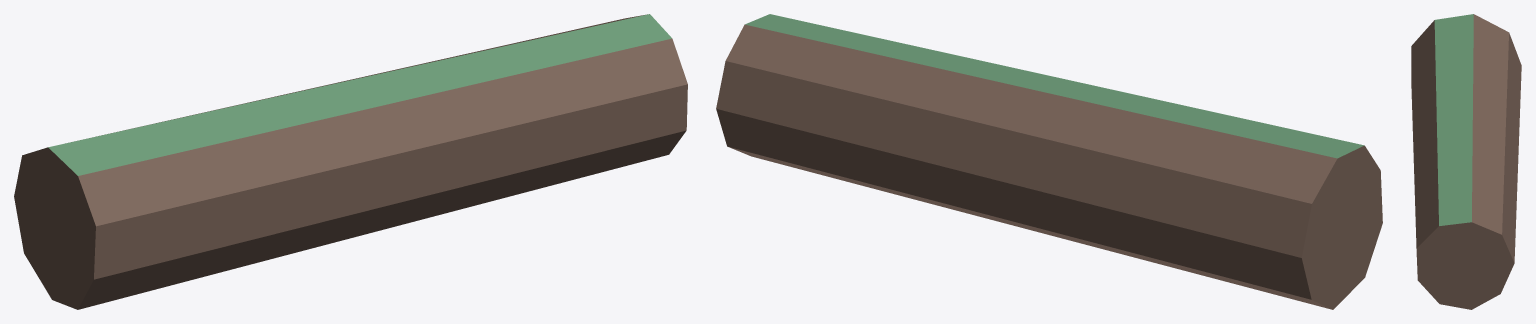
File: Fallen_Log.glb
3 renders of one model, left to right at view 1: azimuth 30°, elevation 25°; view 2: azimuth 150°, elevation 25°; view 3: azimuth 270°, elevation 25°, orthographic. The views are drawn at different scales.
Parts seen in each view (by area): view 1: Fallen_Log; view 2: Fallen_Log; view 3: Fallen_Log.
Boxes of the visible parts, x1,y1,x2,y2 form: Fallen_Log: [14, 14, 687, 309]; Fallen_Log: [716, 14, 1382, 309]; Fallen_Log: [1411, 14, 1521, 309].
Bounding box in the file's own units: 3.42 × 0.8376 × 0.7983.
